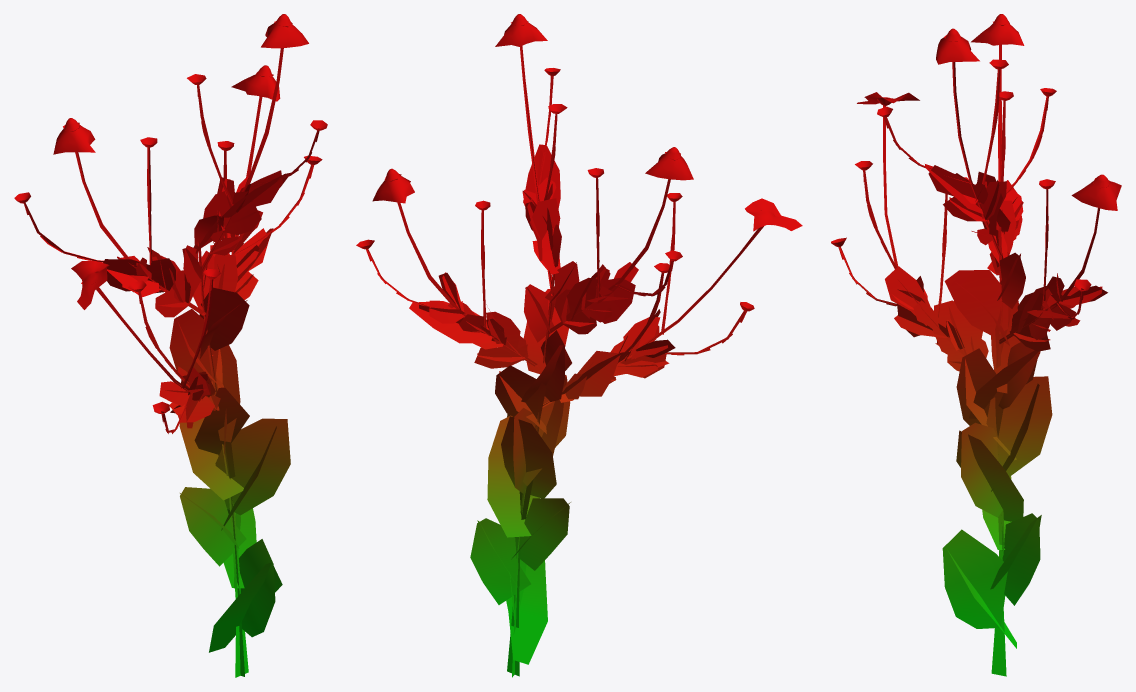
File: Chamomile_LOD1_Var4_ujcnejvja.fbx
3 views of the same model, side by side, from view 1: azimuth 30°, elevation 25°; view 2: azimuth 150°, elevation 25°; view 3: azimuth 270°, elevation 25° (orthographic). The views are drawn at different scales.
Parts seen in each view (by area): view 1: _limh_Var4_LOD1; view 2: _limh_Var4_LOD1; view 3: _limh_Var4_LOD1.
Part boxes in pixels (bbox=[...]): _limh_Var4_LOD1: bbox=[14, 14, 327, 677]; _limh_Var4_LOD1: bbox=[356, 14, 802, 677]; _limh_Var4_LOD1: bbox=[831, 14, 1121, 676].
Size of the model in its own units: 29.5 by 53.94 by 21.66.
